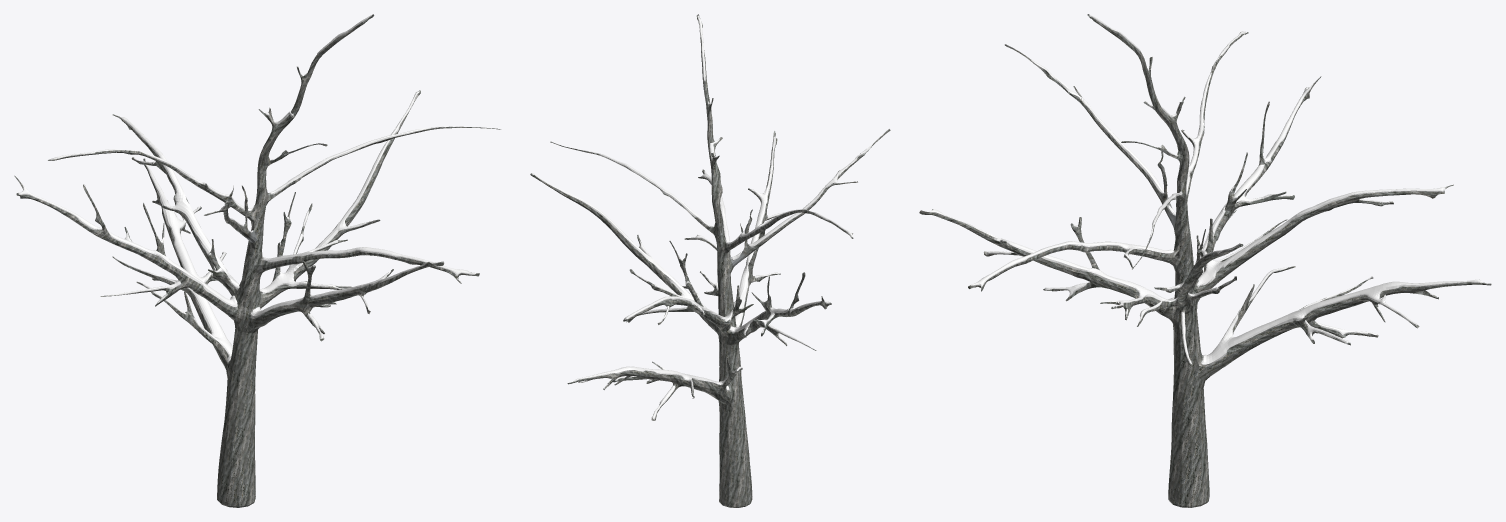
3 views of the same model, side by side, from view 1: azimuth 30°, elevation 25°; view 2: azimuth 150°, elevation 25°; view 3: azimuth 270°, elevation 25° (orthographic). The views are drawn at different scales.
Visible parts, largest first — view 1: TreeWinter, Snow; view 2: TreeWinter, Snow; view 3: TreeWinter, Snow.
Part boxes in pixels (x1,y1,x2,y2): TreeWinter: (14, 14, 500, 507); Snow: (18, 15, 475, 362); TreeWinter: (530, 14, 890, 507); Snow: (532, 15, 872, 419); TreeWinter: (919, 14, 1491, 507); Snow: (927, 15, 1488, 365).
Bounding box in the file's own units: 67.5 × 79.98 × 77.8.
Materials: 2 (1 with a texture image).
